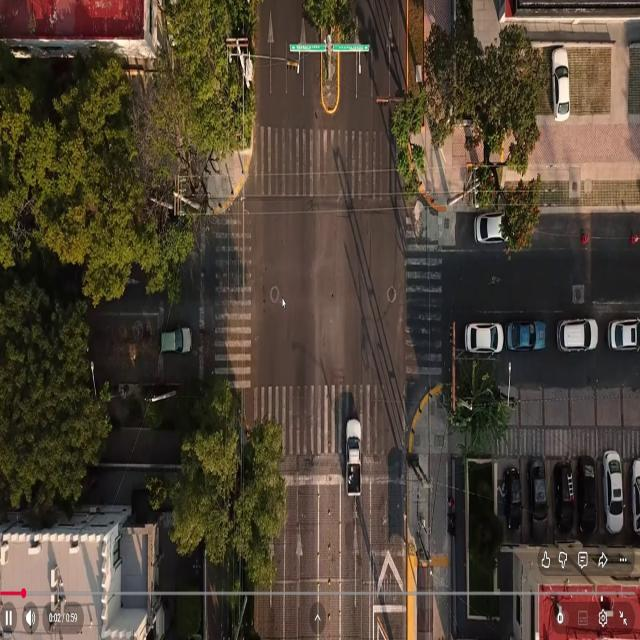car: (603, 450, 623, 533), (577, 455, 597, 534), (554, 462, 574, 533), (528, 458, 547, 527), (552, 48, 569, 121), (557, 320, 597, 351), (506, 321, 545, 351), (465, 323, 503, 353), (504, 468, 522, 529), (608, 319, 639, 350), (475, 213, 505, 243), (161, 328, 191, 353), (631, 459, 639, 533)
truck: (346, 419, 361, 495)
